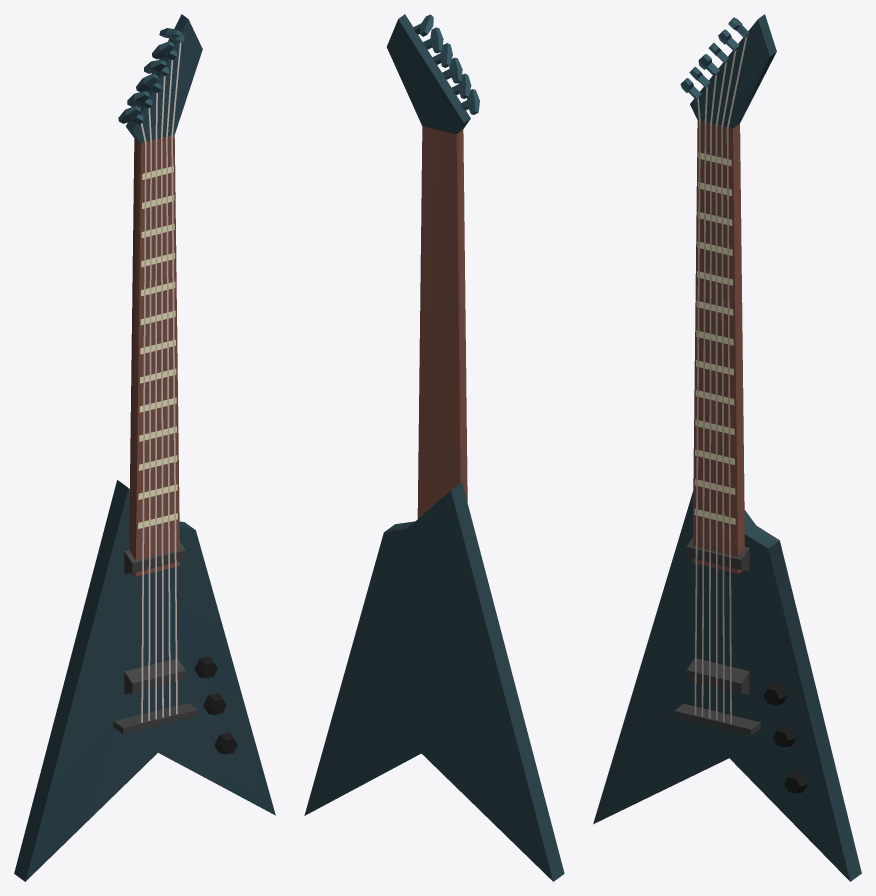
File: musical_instrument_018.glb
The picture shows the model from 3 angles, left to right: view 1: azimuth 30°, elevation 25°; view 2: azimuth 150°, elevation 25°; view 3: azimuth 330°, elevation 25°; orthographic projection. The views are drawn at different scales.
Visible parts, largest first — view 1: musical_instrument_018; view 2: musical_instrument_018; view 3: musical_instrument_018.
Boxes of the visible parts, x1=… form: musical_instrument_018: x1=14, y1=14, x2=275, y2=881; musical_instrument_018: x1=304, y1=14, x2=564, y2=881; musical_instrument_018: x1=593, y1=14, x2=861, y2=881.
Size of the model in its own units: 0.3883 by 1.22 by 0.0606.
1 material, 1 textured.
